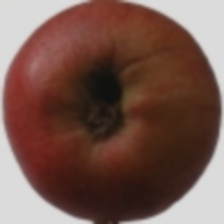apple: (0, 23, 189, 213)
